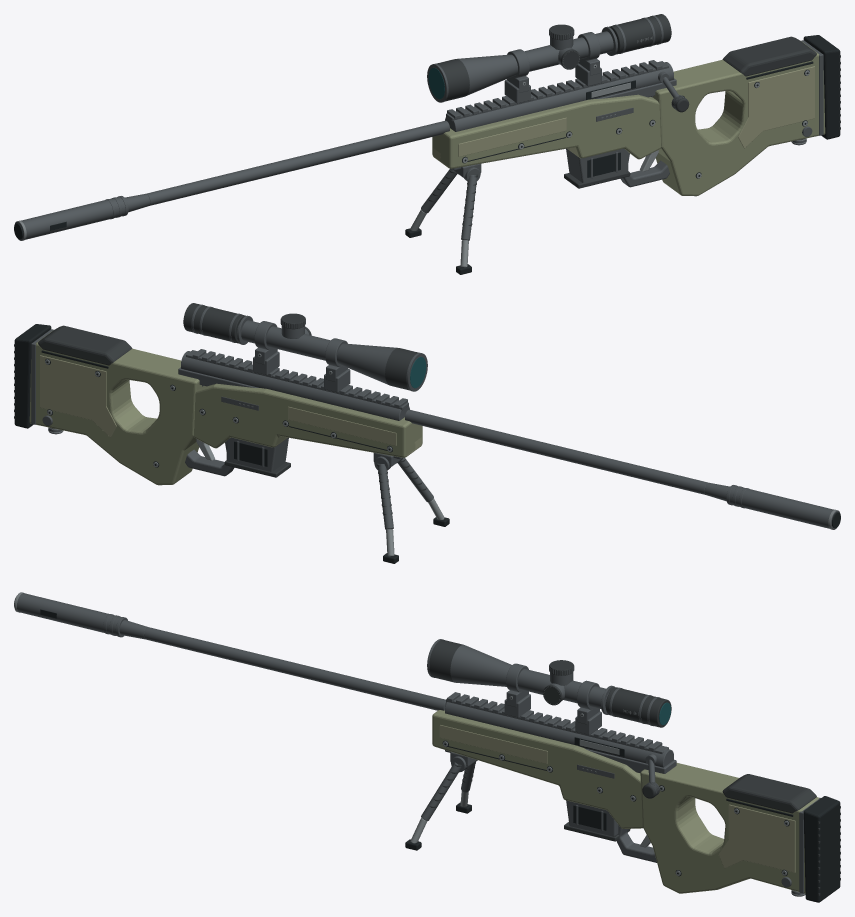
The model's file is awm.glb.
3 renders of one model, top to bottom at view 1: azimuth 30°, elevation 25°; view 2: azimuth 150°, elevation 25°; view 3: azimuth 330°, elevation 25°, orthographic.
Visible parts, largest first — view 1: part_stock_surfaces, part_chassis_surfaces, part_scope_surfaces, part_barrel_surfaces, part_receiver_surfaces, part_bipod_surfaces, part_magazine_surfaces; view 2: part_stock_surfaces, part_chassis_surfaces, part_scope_surfaces, part_barrel_surfaces, part_receiver_surfaces, part_bipod_surfaces, part_magazine_surfaces; view 3: part_stock_surfaces, part_chassis_surfaces, part_scope_surfaces, part_barrel_surfaces, part_receiver_surfaces, part_bipod_surfaces, part_magazine_surfaces.
Part boxes in pixels (left/top/right/bottom): part_stock_surfaces: left=653, top=35, right=840, bottom=196; part_chassis_surfaces: left=432, top=94, right=661, bottom=170; part_scope_surfaces: left=427, top=14, right=671, bottom=103; part_barrel_surfaces: left=14, top=120, right=449, bottom=240; part_receiver_surfaces: left=445, top=60, right=689, bottom=187; part_bipod_surfaces: left=405, top=163, right=481, bottom=274; part_magazine_surfaces: left=564, top=148, right=630, bottom=188; part_stock_surfaces: left=14, top=324, right=201, bottom=485; part_chassis_surfaces: left=193, top=383, right=422, bottom=459; part_scope_surfaces: left=183, top=303, right=427, bottom=392; part_barrel_surfaces: left=405, top=409, right=840, bottom=529; part_receiver_surfaces: left=178, top=349, right=409, bottom=476; part_bipod_surfaces: left=373, top=452, right=449, bottom=563; part_magazine_surfaces: left=224, top=437, right=290, bottom=477; part_stock_surfaces: left=640, top=763, right=840, bottom=902; part_chassis_surfaces: left=432, top=710, right=642, bottom=828; part_scope_surfaces: left=427, top=639, right=671, bottom=735; part_barrel_surfaces: left=14, top=592, right=446, bottom=710; part_receiver_surfaces: left=445, top=692, right=676, bottom=862; part_bipod_surfaces: left=405, top=752, right=477, bottom=850; part_magazine_surfaces: left=564, top=800, right=630, bottom=841.
Bounding box in the file's own units: 390 × 89.2 × 46.
